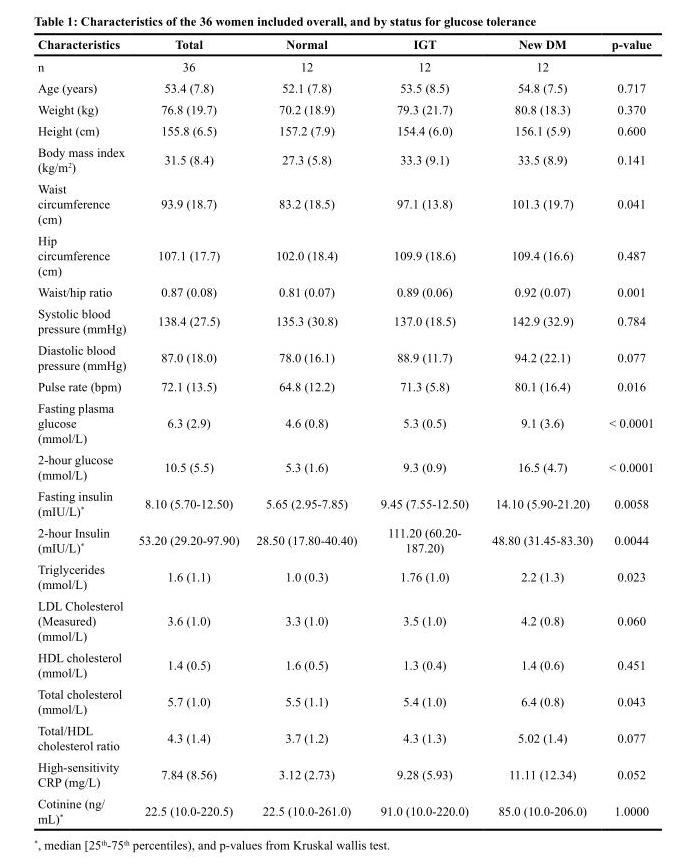table: (37, 36, 653, 825)
table column: (247, 36, 368, 825), (479, 36, 600, 825), (131, 36, 247, 825), (368, 36, 479, 825), (37, 36, 131, 825), (600, 36, 653, 825)
table column header: (37, 36, 653, 54)
table row: (37, 177, 653, 229), (37, 396, 653, 448), (37, 594, 653, 646), (37, 229, 653, 280), (37, 140, 653, 177), (37, 338, 653, 375), (37, 484, 653, 521), (37, 557, 653, 594), (37, 682, 653, 719), (37, 755, 653, 792), (37, 302, 653, 338), (37, 448, 653, 484), (37, 521, 653, 557), (37, 646, 653, 682), (37, 719, 653, 755), (37, 792, 653, 825), (37, 54, 653, 76), (37, 76, 653, 98), (37, 280, 653, 302), (37, 98, 653, 119), (37, 119, 653, 140), (37, 375, 653, 396), (37, 36, 653, 54)
